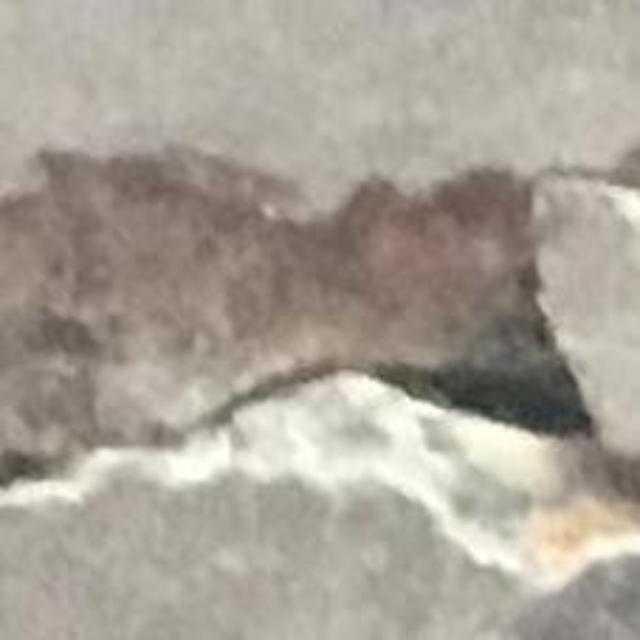crack: (0, 150, 639, 592)
